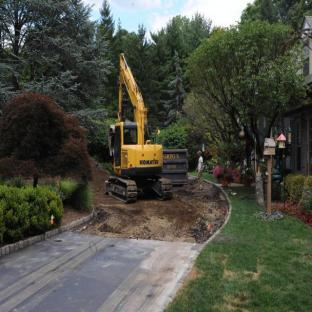ExcavationMachinery: (104, 49, 195, 210)
